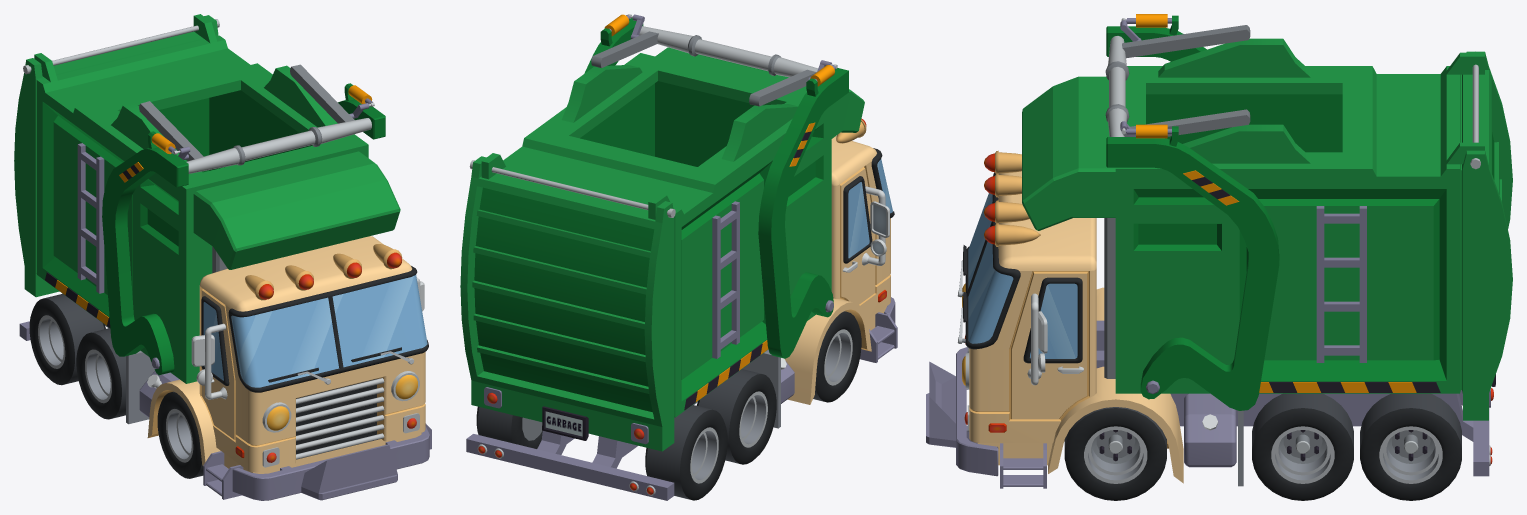
Rendered from GarbageTruck_GRP.fbx.
3 renders of one model, left to right at view 1: azimuth 30°, elevation 25°; view 2: azimuth 150°, elevation 25°; view 3: azimuth 270°, elevation 25°, orthographic. The views are drawn at different scales.
Parts seen in each view (by area): view 1: GarbageTruck_mesh, GarbageTruck_Wheel_BR_2_mesh, GarbageTruck_Wheel_BR_1_mesh, GarbageTruck_Wheel_FR_mesh; view 2: GarbageTruck_mesh, GarbageTruck_Wheel_BR_2_mesh, GarbageTruck_Wheel_BR_1_mesh, GarbageTruck_Wheel_FR_mesh, GarbageTruck_Wheel_BL_2_mesh; view 3: GarbageTruck_mesh, GarbageTruck_Wheel_BL_2_mesh, GarbageTruck_Wheel_BL_1_mesh, GarbageTruck_Wheel_FL_mesh.
Part boxes in pixels (bbox=[...]): GarbageTruck_mesh: bbox=[14, 14, 431, 500]; GarbageTruck_Wheel_BR_2_mesh: bbox=[29, 293, 105, 385]; GarbageTruck_Wheel_BR_1_mesh: bbox=[76, 328, 125, 419]; GarbageTruck_Wheel_FR_mesh: bbox=[157, 391, 203, 478]; GarbageTruck_mesh: bbox=[460, 14, 897, 500]; GarbageTruck_Wheel_BR_2_mesh: bbox=[645, 405, 727, 500]; GarbageTruck_Wheel_BR_1_mesh: bbox=[696, 369, 776, 464]; GarbageTruck_Wheel_FR_mesh: bbox=[813, 311, 861, 402]; GarbageTruck_Wheel_BL_2_mesh: bbox=[476, 406, 542, 448]; GarbageTruck_mesh: bbox=[926, 14, 1512, 488]; GarbageTruck_Wheel_BL_2_mesh: bbox=[1360, 393, 1461, 500]; GarbageTruck_Wheel_BL_1_mesh: bbox=[1252, 393, 1353, 500]; GarbageTruck_Wheel_FL_mesh: bbox=[1064, 407, 1166, 500].
Size of the model in its own units: 1.98 by 2.67 by 3.76.
